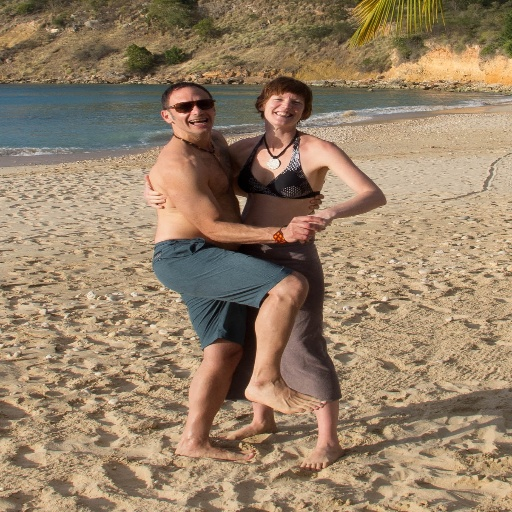hand: (272, 205, 336, 243), (139, 172, 165, 211), (299, 209, 335, 228), (310, 191, 325, 212)
